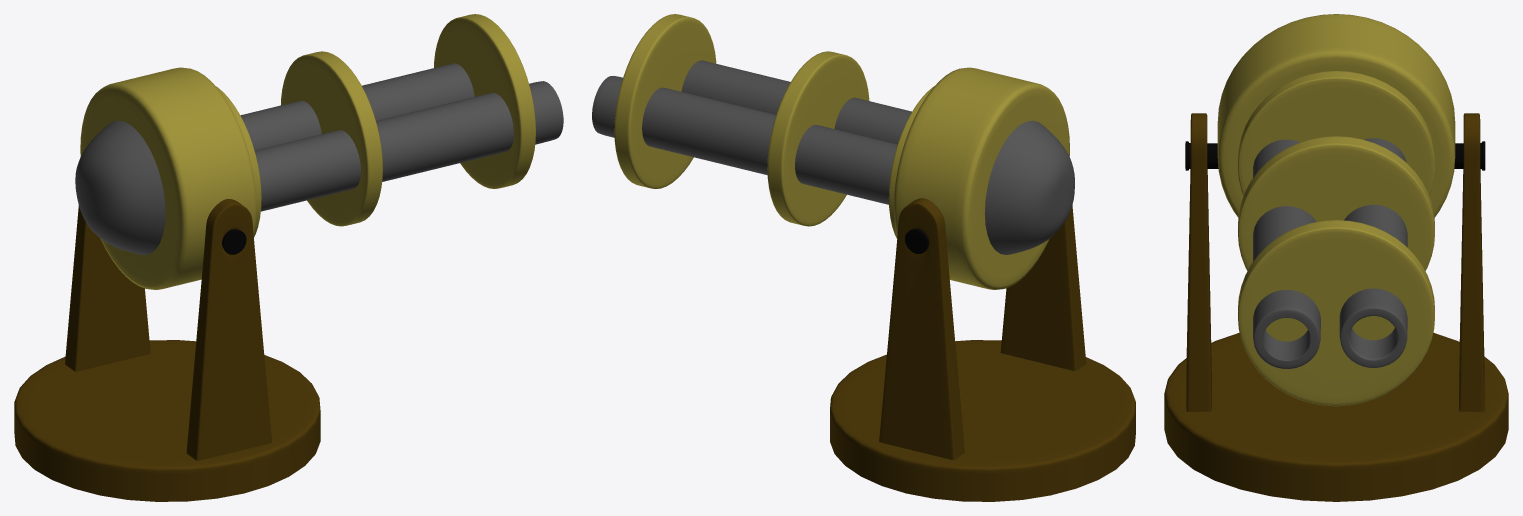
The model's file is canon_v2_ydays.fbx.
3 views of the same model, side by side, from view 1: azimuth 30°, elevation 25°; view 2: azimuth 150°, elevation 25°; view 3: azimuth 270°, elevation 25° (orthographic). The views are drawn at different scales.
Visible parts, largest first — view 1: canon; view 2: canon; view 3: canon.
Part boxes in pixels (x1,y1,x2,y2): canon: [14, 14, 563, 501]; canon: [592, 14, 1135, 501]; canon: [1164, 14, 1508, 501].
Bounding box in the file's own units: 6.67 × 4.58 × 3.6.
